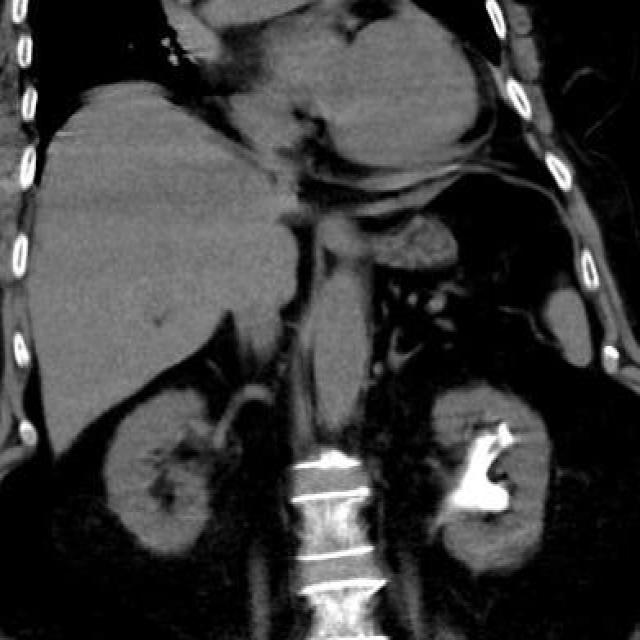Tas_Var: (452, 430, 514, 520), (496, 417, 517, 447)
